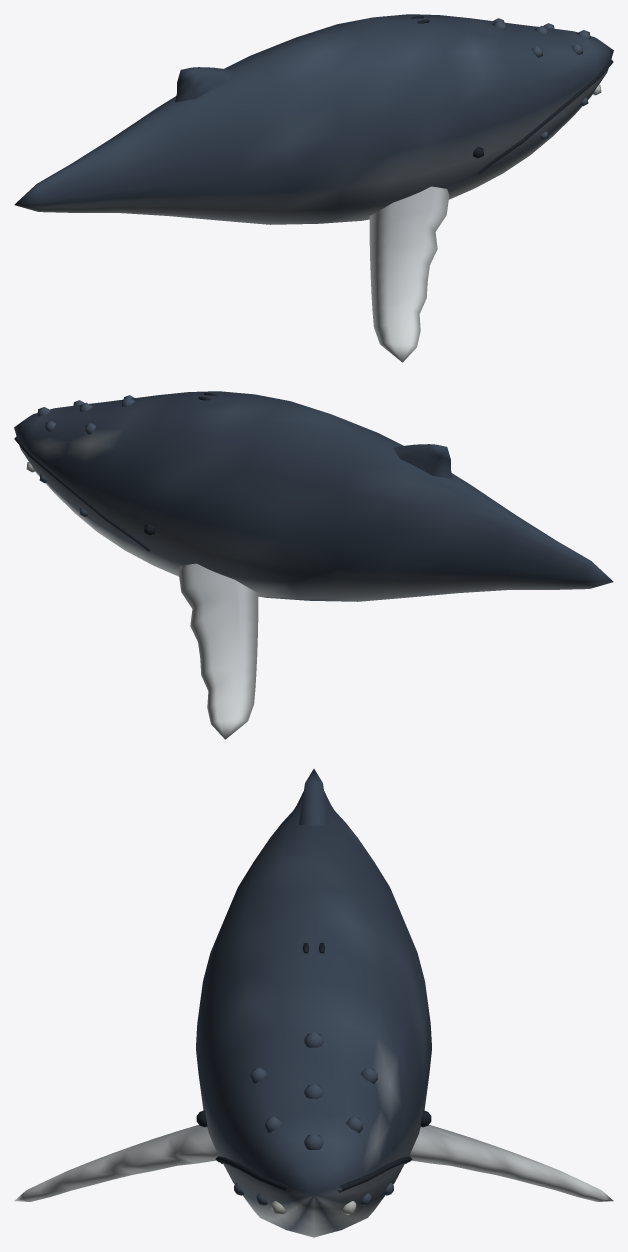
Rendered from sea_whale.glb.
The picture shows the model from 3 angles, top to bottom: view 1: azimuth 30°, elevation 25°; view 2: azimuth 150°, elevation 25°; view 3: azimuth 270°, elevation 25°; orthographic projection. The views are drawn at different scales.
Parts seen in each view (by area): view 1: sea_whale_main; view 2: sea_whale_main; view 3: sea_whale_main.
Boxes of the visible parts, <box> form: sea_whale_main: <box>14,14,613,362</box>; sea_whale_main: <box>14,391,613,739</box>; sea_whale_main: <box>14,769,613,1237</box>.
Bounding box in the file's own units: 3.1 × 1.21 × 1.87.
